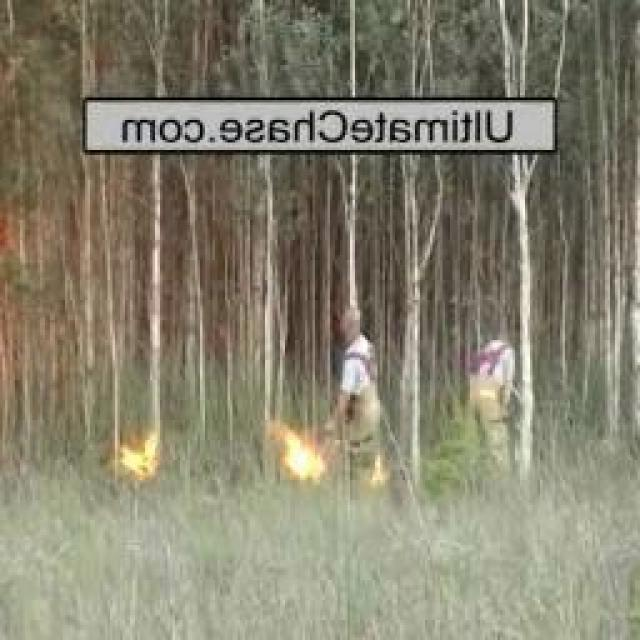Fire: (277, 426, 324, 488), (120, 435, 159, 479), (367, 456, 385, 489)
